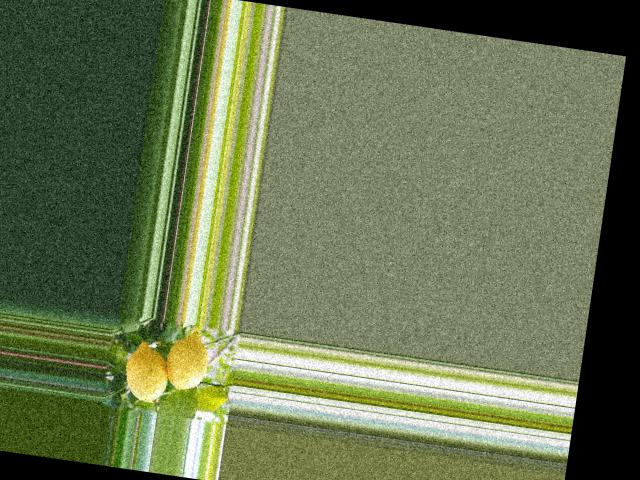lemon: (160, 328, 216, 397)
